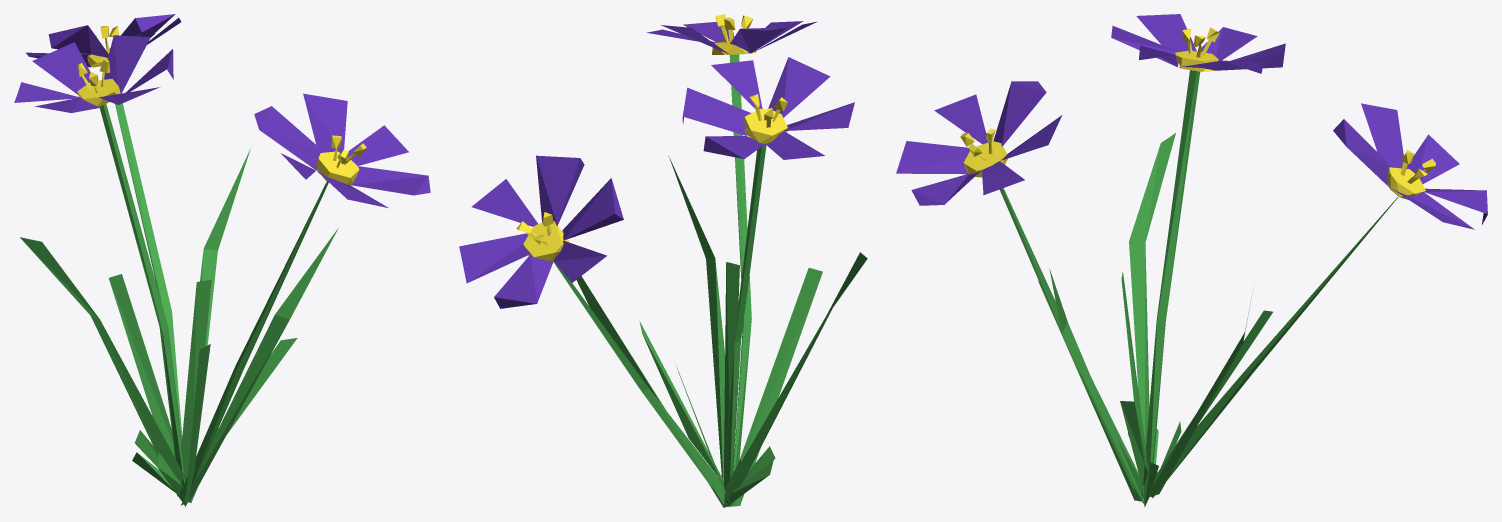
The model's file is blueEyed_lod2.glb.
3 renders of one model, left to right at view 1: azimuth 30°, elevation 25°; view 2: azimuth 150°, elevation 25°; view 3: azimuth 270°, elevation 25°, orthographic. The views are drawn at different scales.
Parts seen in each view (by area): view 1: group904756982, group1946222413, group257013575; view 2: group1946222413, group904756982, group257013575; view 3: group904756982, group1946222413, group257013575.
Boxes of the visible parts, box(x1,y1,x2,y2) form: group904756982: box(20, 103, 338, 506); group1946222413: box(14, 14, 430, 207); group257013575: box(77, 26, 366, 184); group1946222413: box(459, 21, 854, 308); group904756982: box(553, 54, 867, 507); group257013575: box(516, 14, 787, 261); group904756982: box(999, 70, 1398, 506); group1946222413: box(896, 14, 1487, 229); group257013575: box(960, 27, 1435, 199).
Size of the model in its own units: 0.3105 by 0.4468 by 0.5307.
